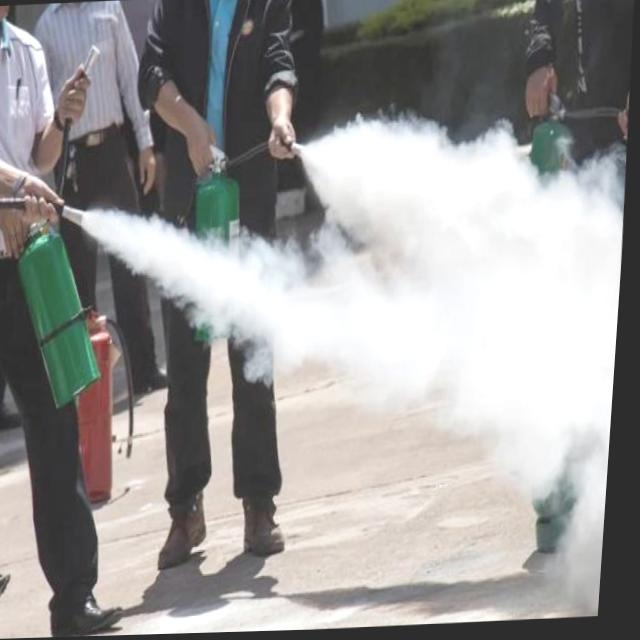FireExtinguisher: (1, 40, 127, 420), (504, 80, 635, 383), (178, 127, 326, 347), (63, 297, 152, 517)
